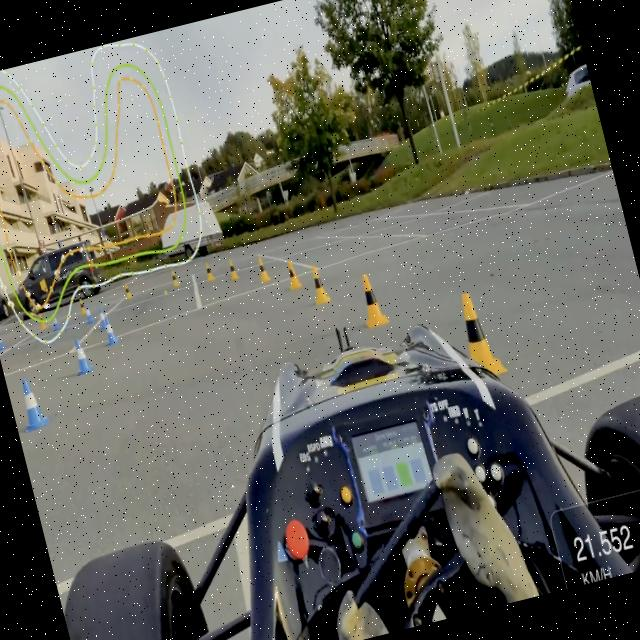blue_cone: (11, 371, 53, 434), (68, 331, 98, 379), (100, 313, 120, 346), (94, 304, 109, 330), (47, 310, 62, 334), (82, 303, 94, 324), (0, 328, 7, 353)
yellow_cone: (448, 282, 510, 384), (351, 267, 392, 332), (304, 260, 332, 308), (282, 256, 302, 292), (254, 253, 272, 284), (224, 257, 240, 282), (202, 258, 216, 284), (167, 267, 182, 289), (120, 280, 133, 300), (37, 312, 47, 330), (77, 296, 86, 314)
